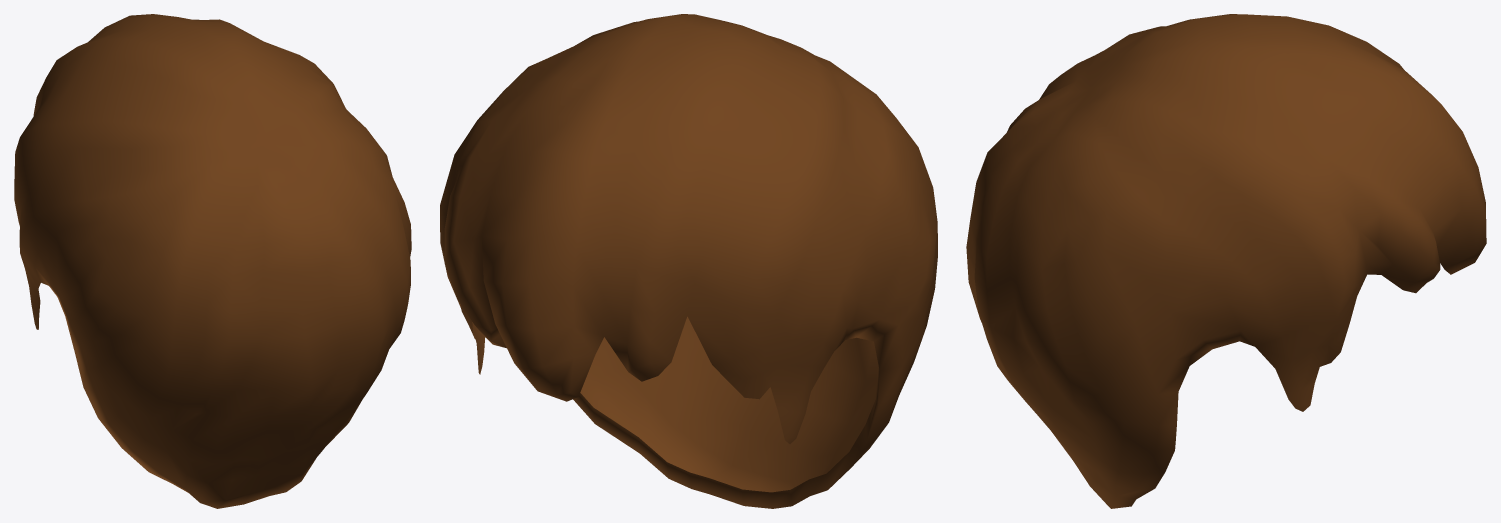
File: Hair_Male_001.glb
3 views of the same model, side by side, from view 1: azimuth 30°, elevation 25°; view 2: azimuth 150°, elevation 25°; view 3: azimuth 270°, elevation 25° (orthographic). The views are drawn at different scales.
Visible parts, largest first — view 1: Hair_Male_001; view 2: Hair_Male_001; view 3: Hair_Male_001.
Boxes of the visible parts, x1,y1,x2,y2 form: Hair_Male_001: (14,14,411,508); Hair_Male_001: (440,14,937,508); Hair_Male_001: (966,14,1486,508).
Bounding box in the file's own units: 0.189 × 0.2389 × 0.2448.
